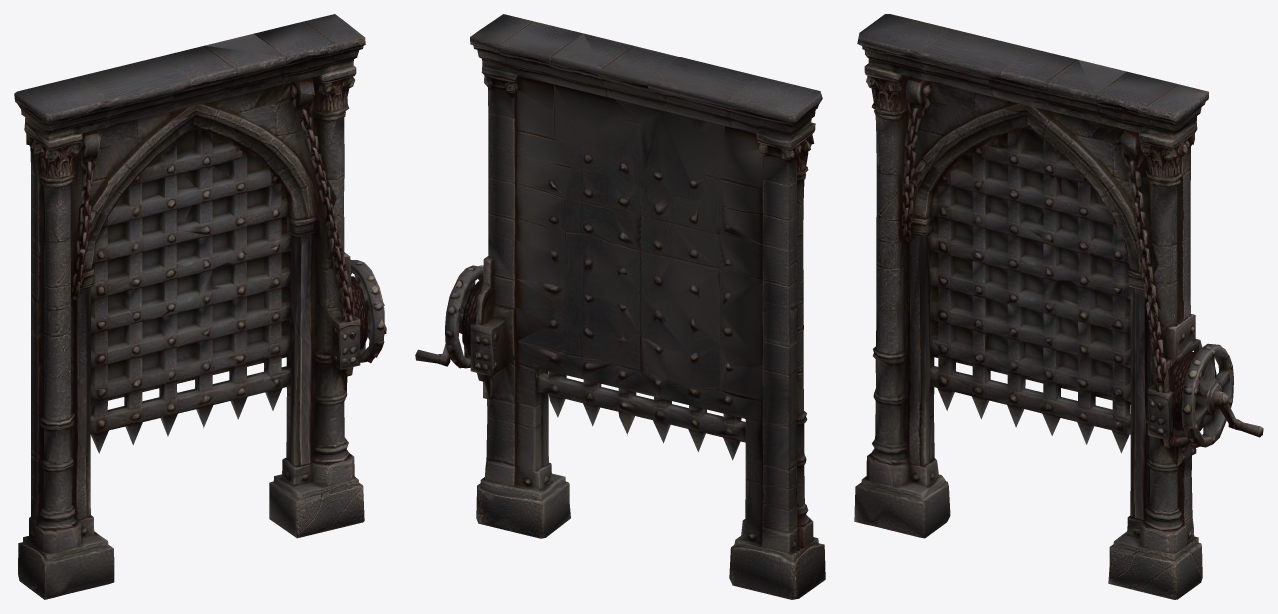
File: portcullis.glb
The picture shows the model from 3 angles, left to right: view 1: azimuth 30°, elevation 25°; view 2: azimuth 150°, elevation 25°; view 3: azimuth 330°, elevation 25°; orthographic projection.
Parts seen in each view (by area): view 1: portcullis; view 2: portcullis; view 3: portcullis.
Boxes of the visible parts, x1,y1,x2,y2 form: portcullis: (14,14,386,599); portcullis: (415,14,825,599); portcullis: (854,14,1263,599).
Bounding box in the file's own units: 2.9 × 3.6 × 0.6.
1 material, 1 textured.
